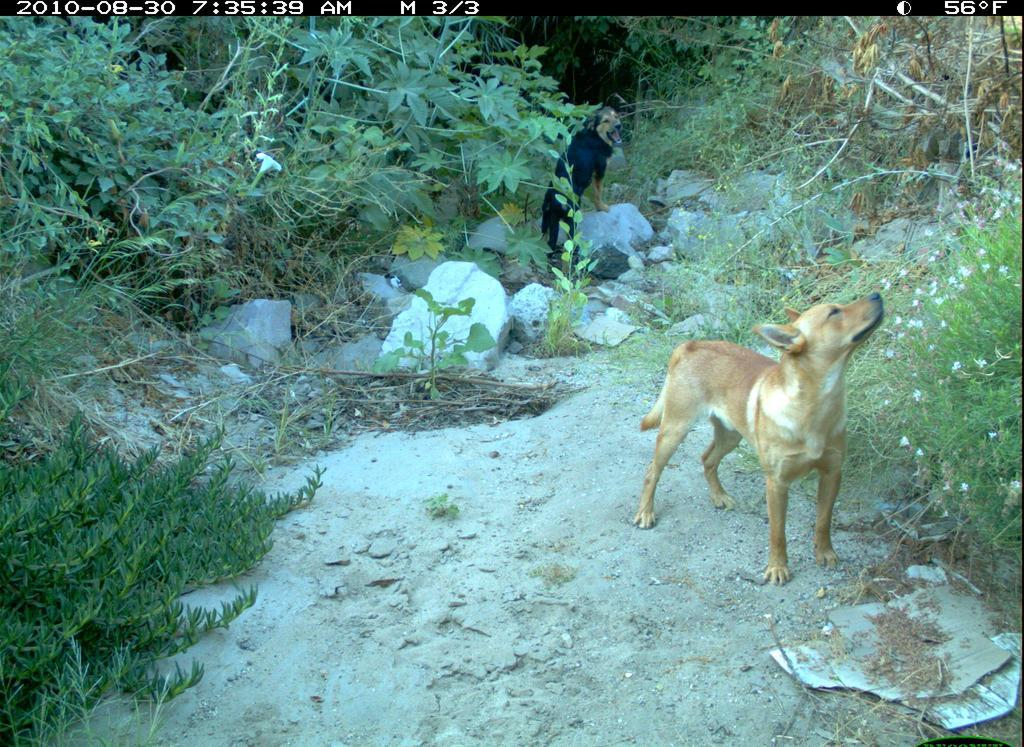dog: (624, 292, 897, 594), (533, 102, 638, 264)
